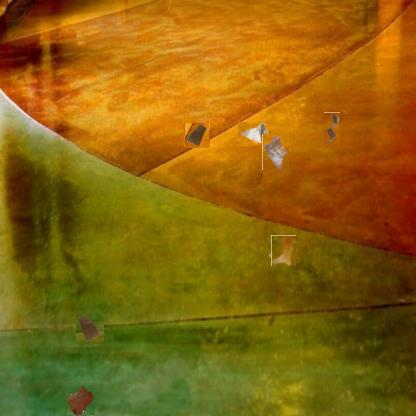dirty: (262, 134, 289, 170), (76, 314, 104, 344), (237, 121, 269, 144), (185, 123, 210, 147), (324, 112, 340, 145)
liquid: (67, 385, 95, 415), (270, 236, 298, 265)
